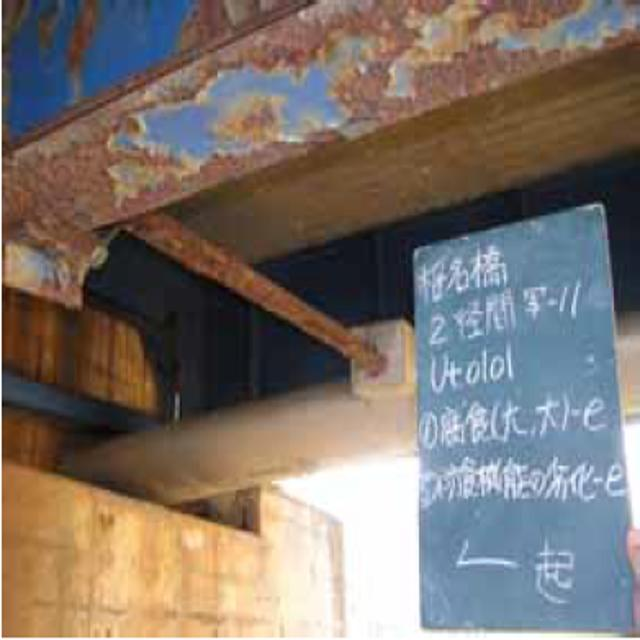corrosion: (15, 21, 640, 245)
